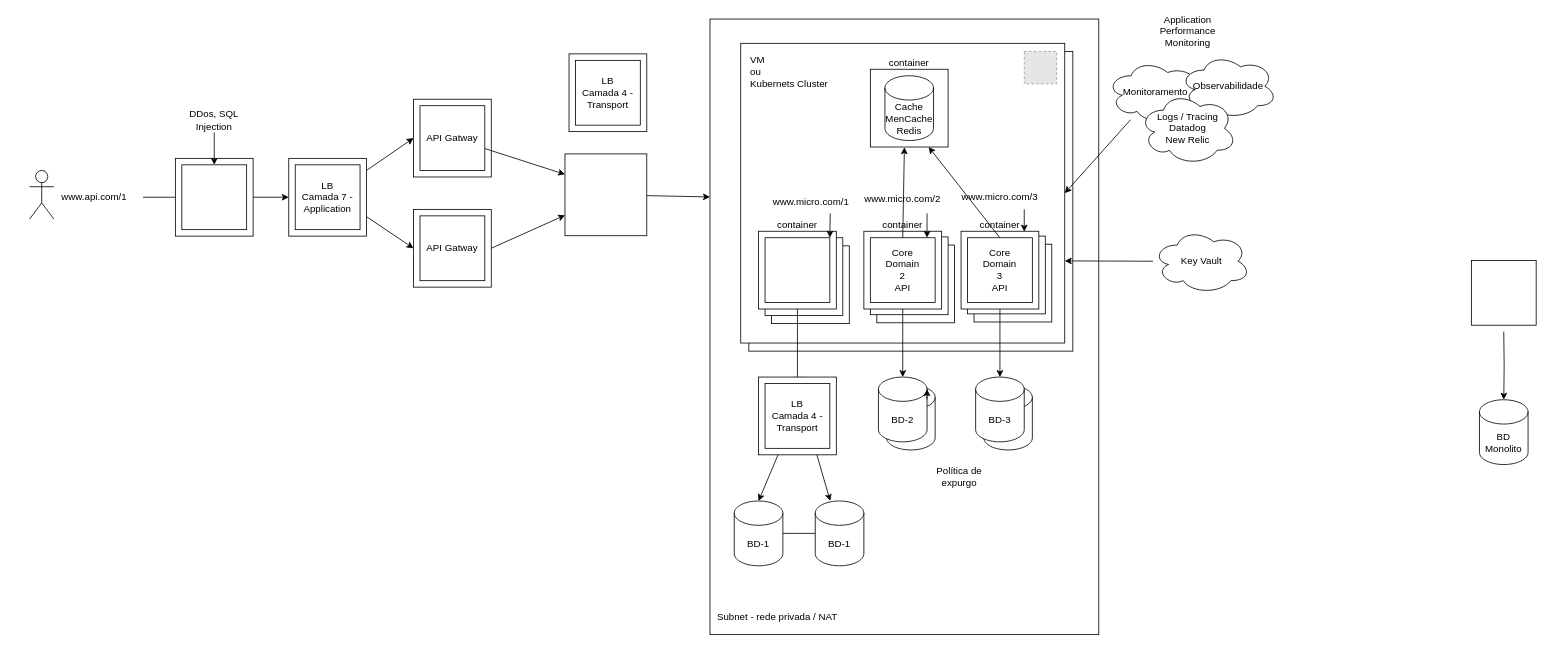
This 1550x649 diagram has some shape labels left out. Grey dashed boxes stand in for pictures. Here are the shapes that lost their labels. From the top down, the centre of each, then its label:
[41,194]: client system
[214,197]: WAF Web Aplication Firewall
[605,194]: Gateway
[797,270]: Core Domain 1 API
[1503,292]: Monolito / APIs
